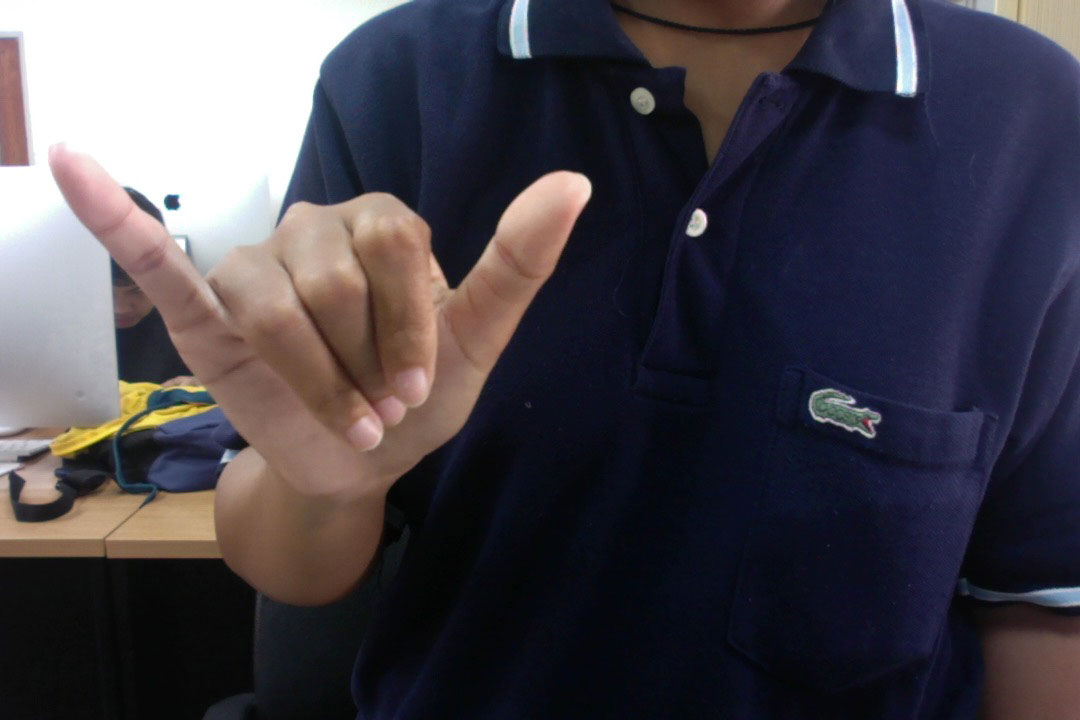yor: (38, 123, 605, 512)
